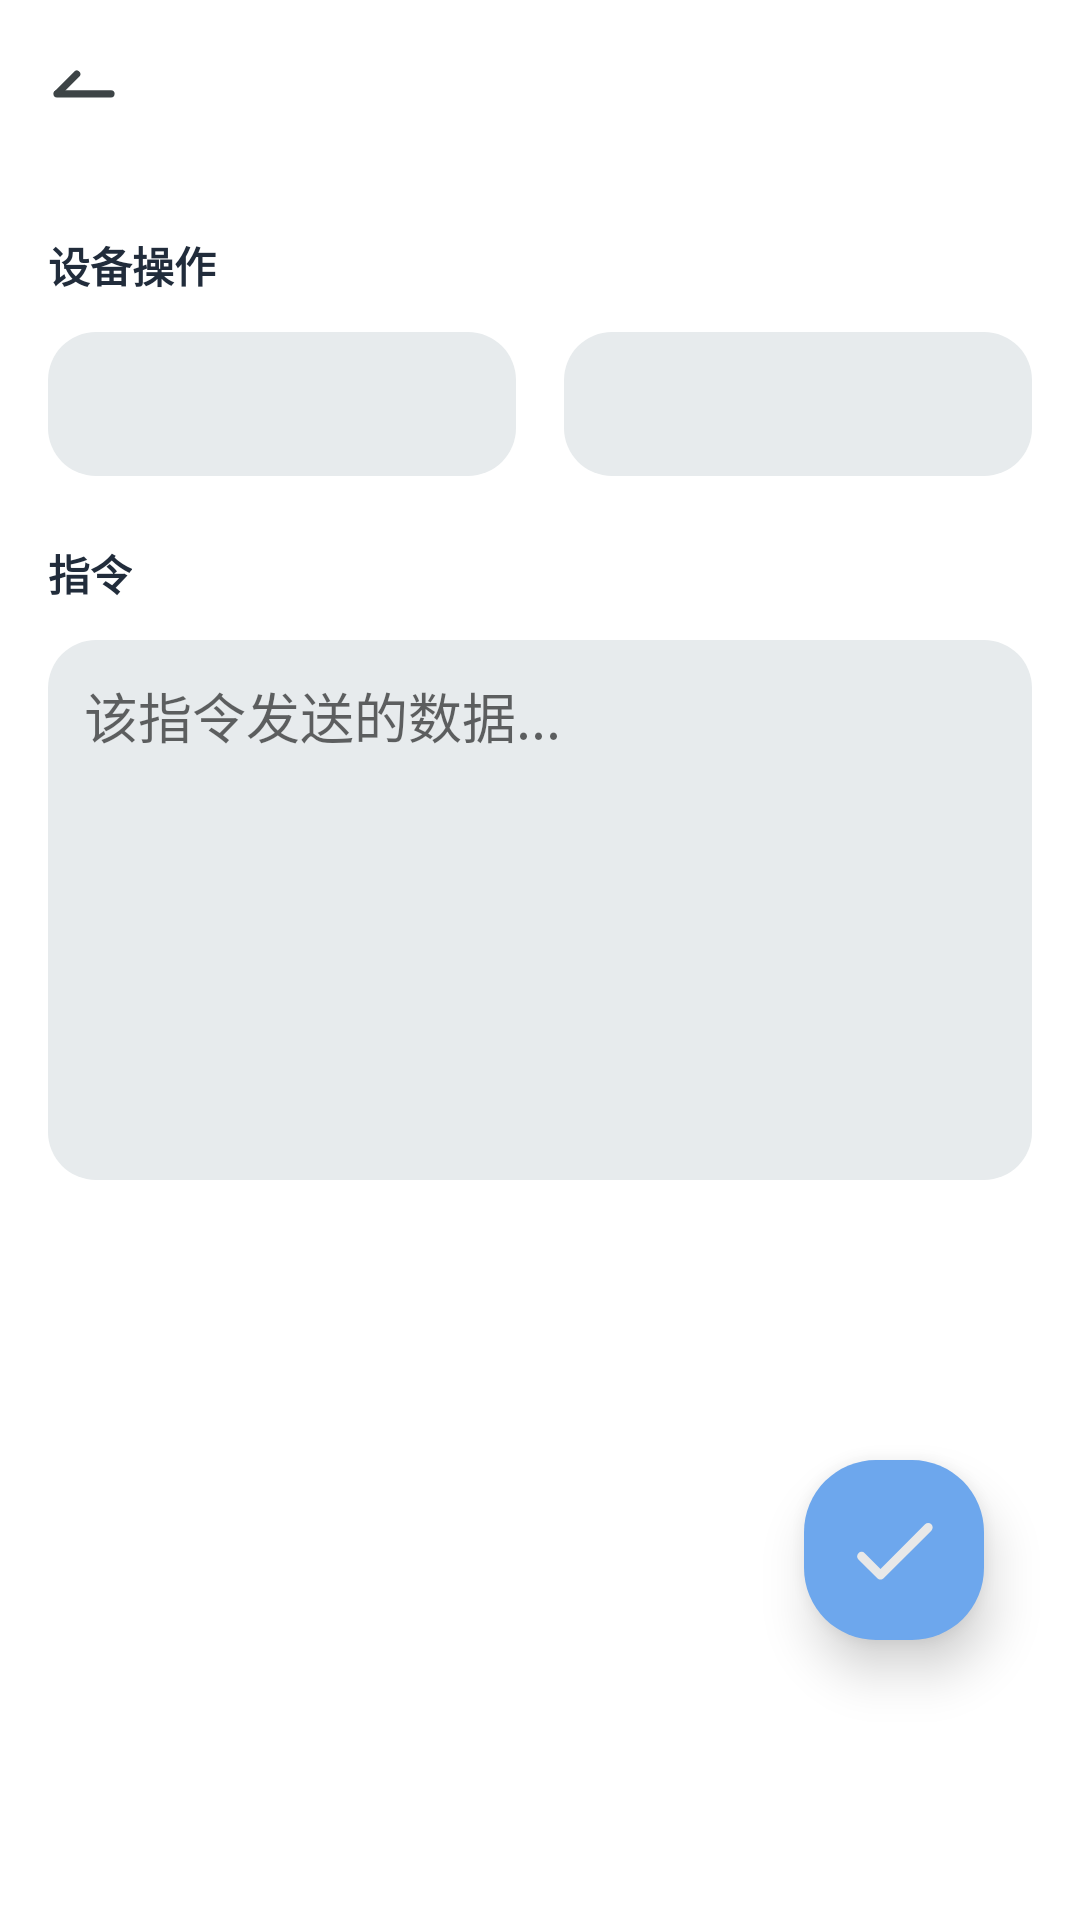

Where icons sit on this 1080*1920 app screen, as box=[x1, y1, x2, y2]:
确定: box=[804, 1460, 984, 1640]
